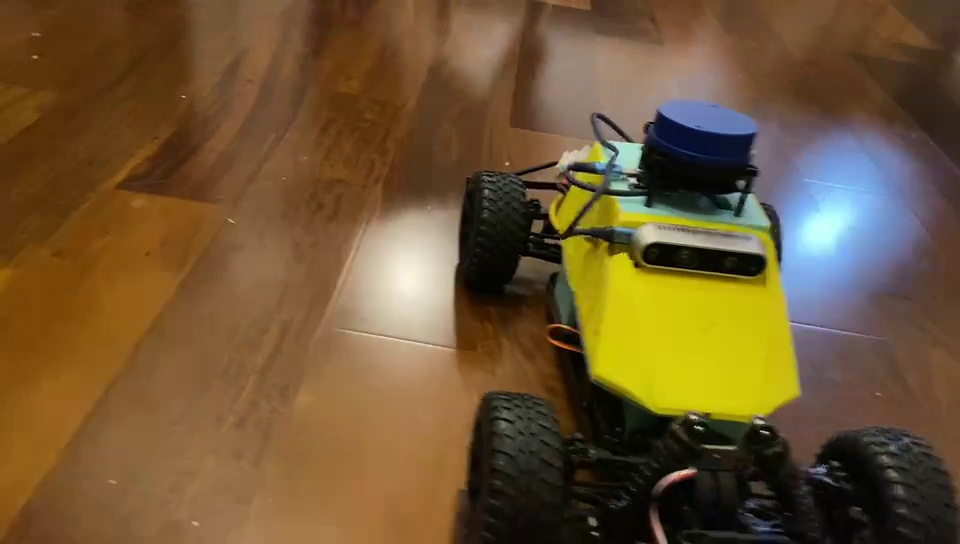mushr_car: (451, 90, 959, 544)
